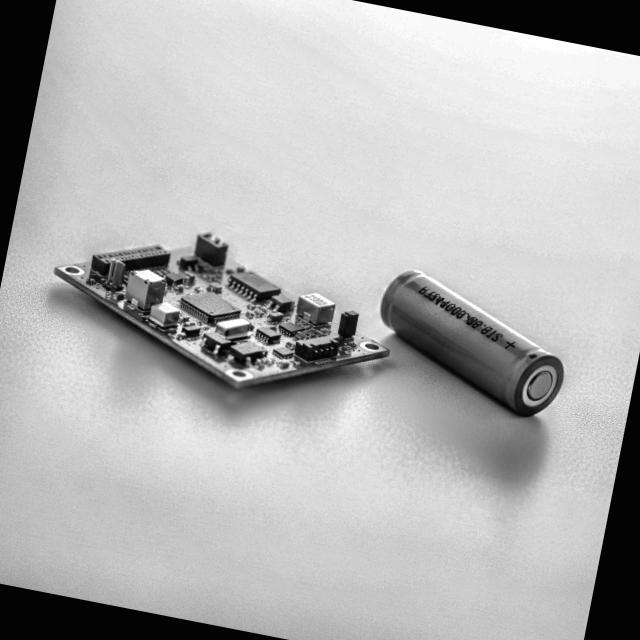Battery: (362, 262, 580, 426)
PCB: (38, 206, 406, 418)
